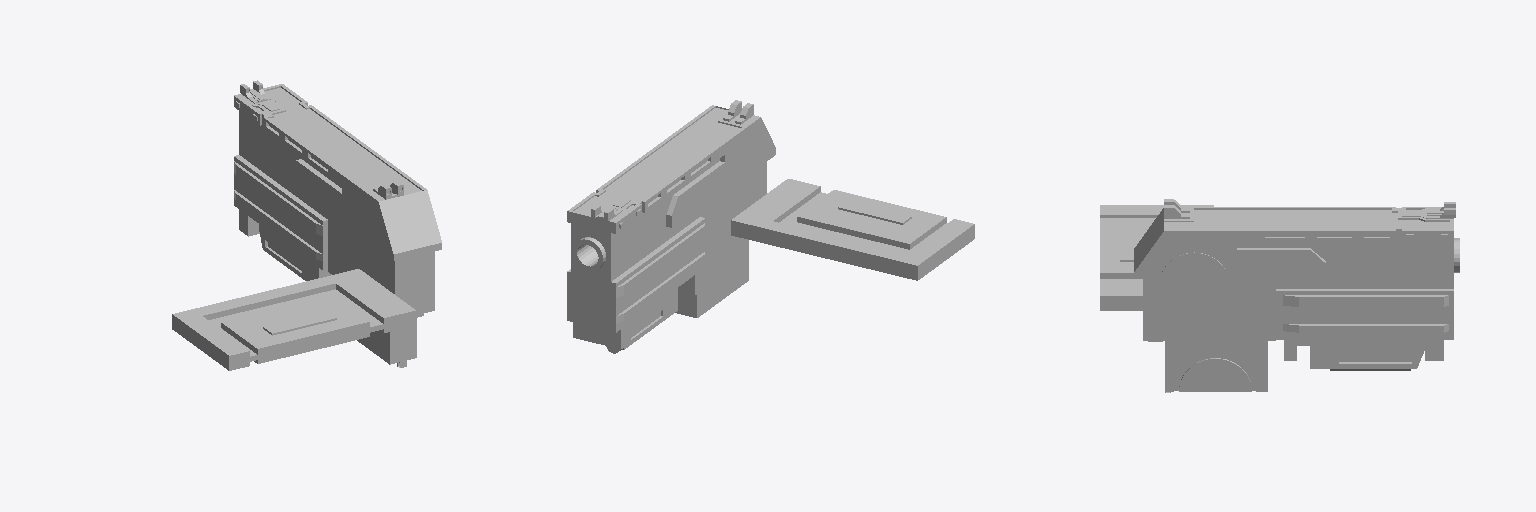
File: 10mm pistol.obj
3 renders of one model, left to right at view 1: azimuth 30°, elevation 25°; view 2: azimuth 150°, elevation 25°; view 3: azimuth 270°, elevation 25°, orthographic.
Parts seen in each view (by area): view 1: Model; view 2: Model; view 3: Model.
Part boxes in pixels (left/top/right/bottom): Model: left=172, top=80, right=441, bottom=370; Model: left=567, top=100, right=974, bottom=353; Model: left=1100, top=199, right=1459, bottom=392.
Bounding box in the file's own units: 6.6 × 4.96 × 8.83.